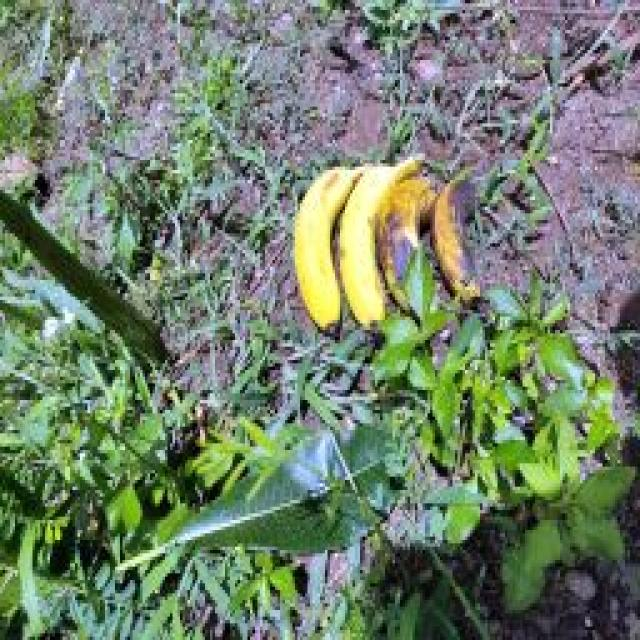Organik: (280, 144, 350, 329), (427, 159, 496, 335), (335, 166, 395, 346), (381, 163, 437, 335)
